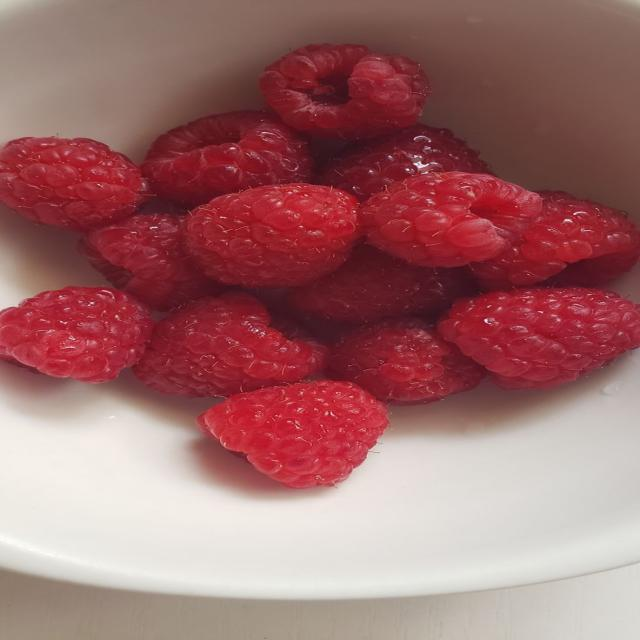raspberry: (199, 381, 388, 487), (439, 288, 639, 388), (134, 293, 326, 396), (185, 184, 360, 287), (361, 172, 541, 267), (472, 192, 639, 290), (142, 111, 313, 205), (260, 45, 429, 138), (287, 246, 477, 323), (0, 287, 153, 382), (80, 214, 225, 310), (0, 138, 147, 230), (327, 319, 486, 404), (320, 124, 491, 200)
